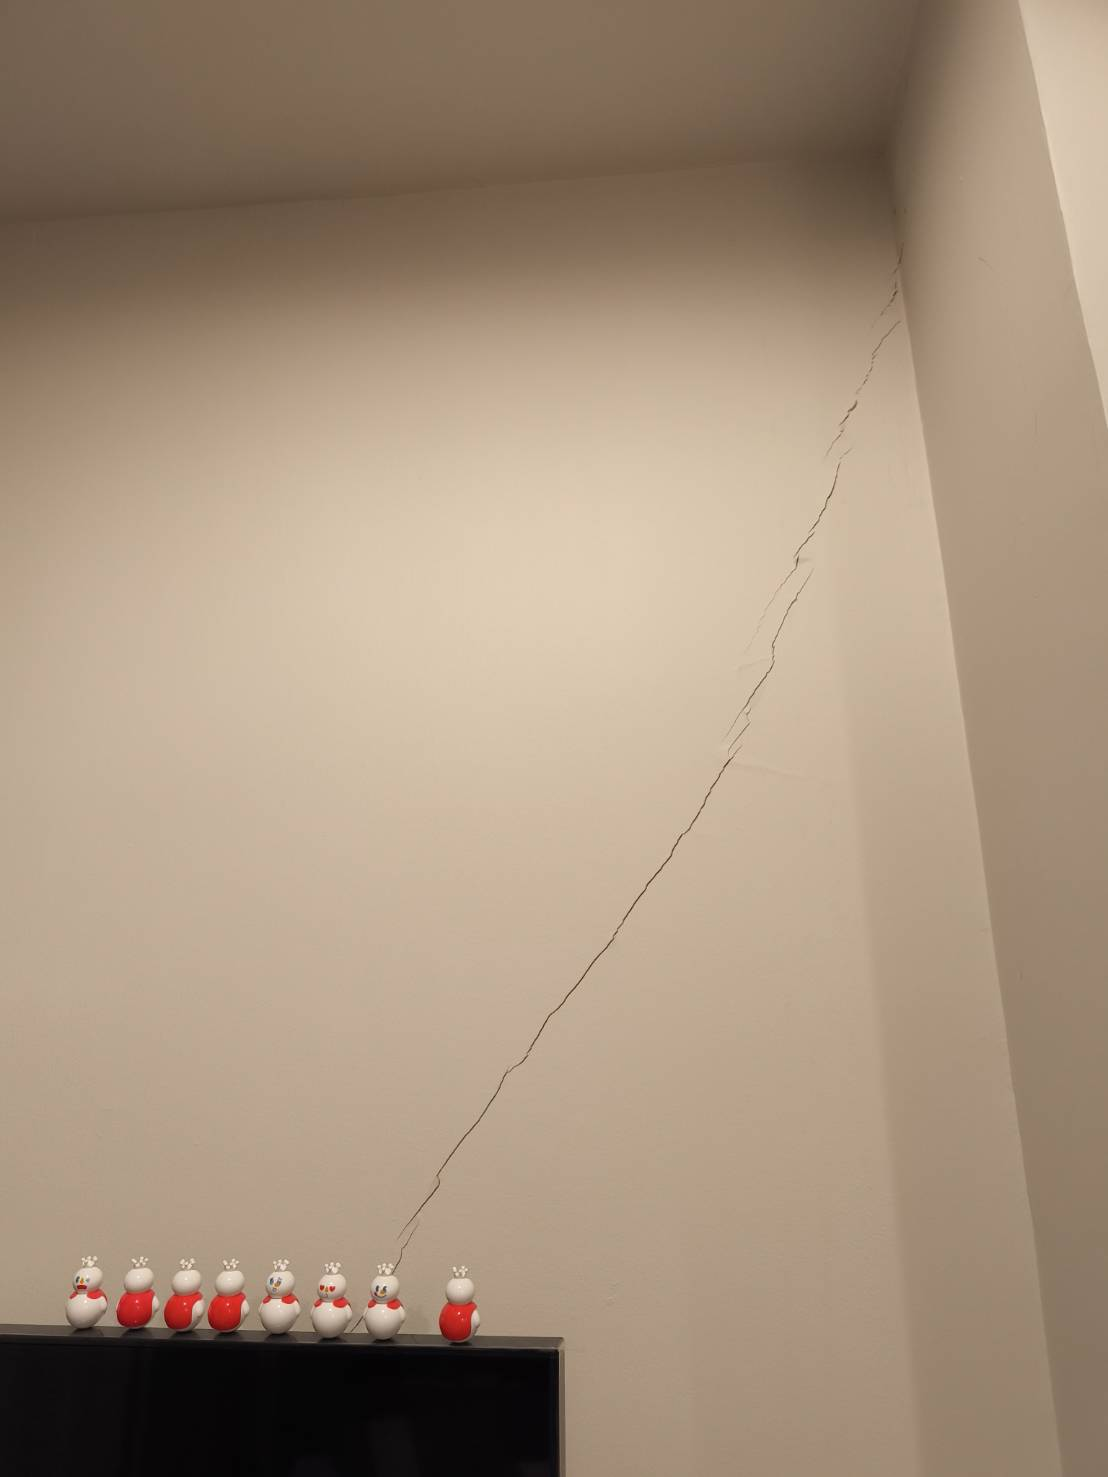Low: (402, 230, 914, 1261)
